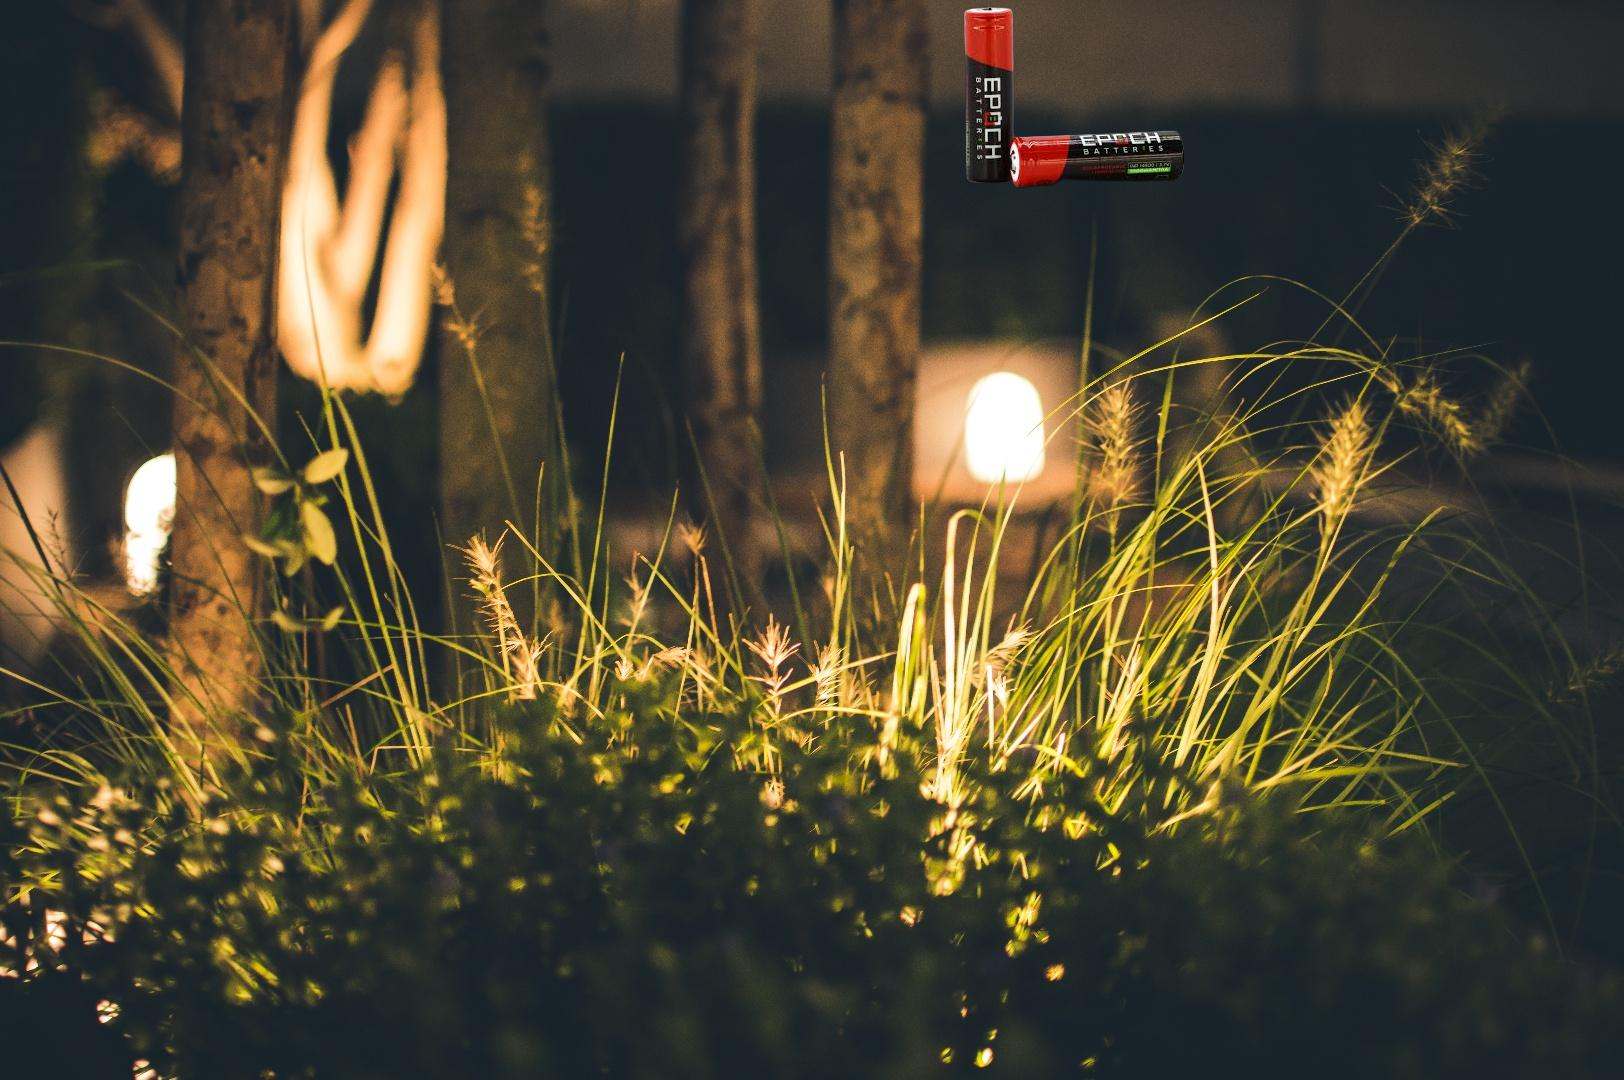battery: (963, 5, 1185, 190)
